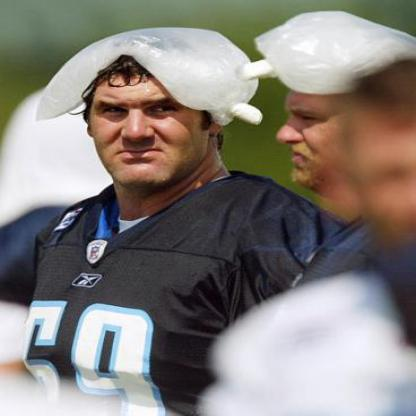face: (88, 39, 211, 191), (274, 47, 377, 193)
